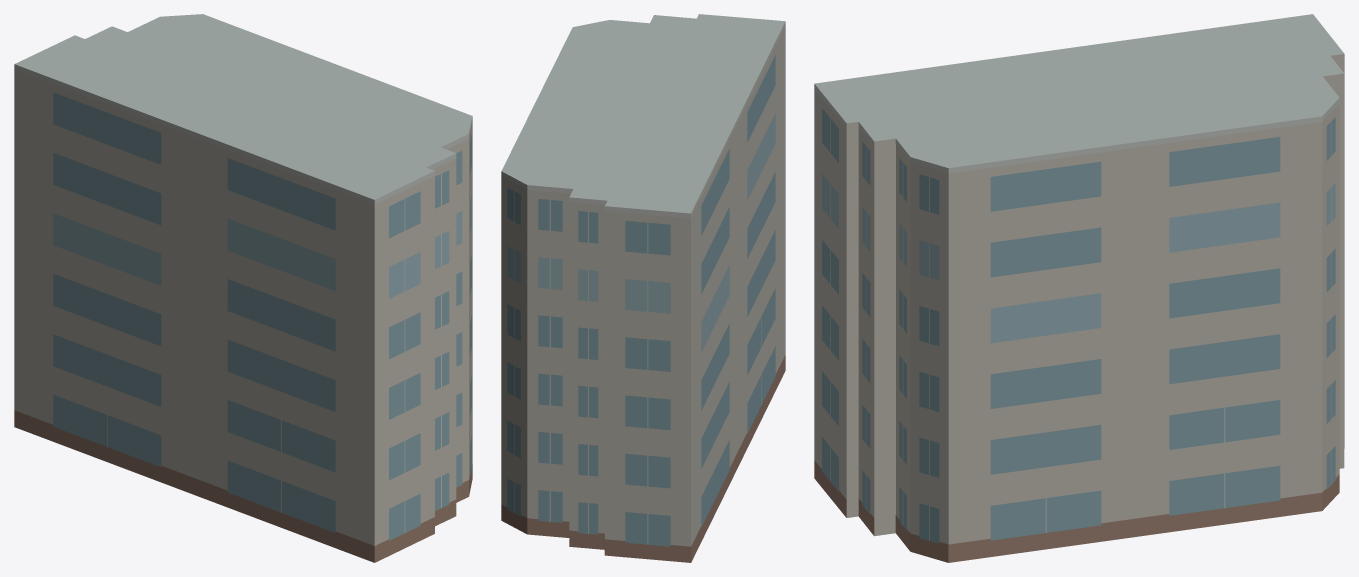
File: survey-upis-32638191.glb
3 renders of one model, left to right at view 1: azimuth 30°, elevation 25°; view 2: azimuth 150°, elevation 25°; view 3: azimuth 270°, elevation 25°, orthographic. The views are drawn at different scales.
Visible parts, largest first — view 1: survey-upis-32638191.tmp; view 2: survey-upis-32638191.tmp; view 3: survey-upis-32638191.tmp.
Boxes of the visible parts, x1,y1,x2,y2 form: survey-upis-32638191.tmp: [14, 14, 472, 562]; survey-upis-32638191.tmp: [501, 14, 785, 562]; survey-upis-32638191.tmp: [814, 14, 1344, 562].
Bounding box in the file's own units: 14.92 × 17.8 × 21.68.
